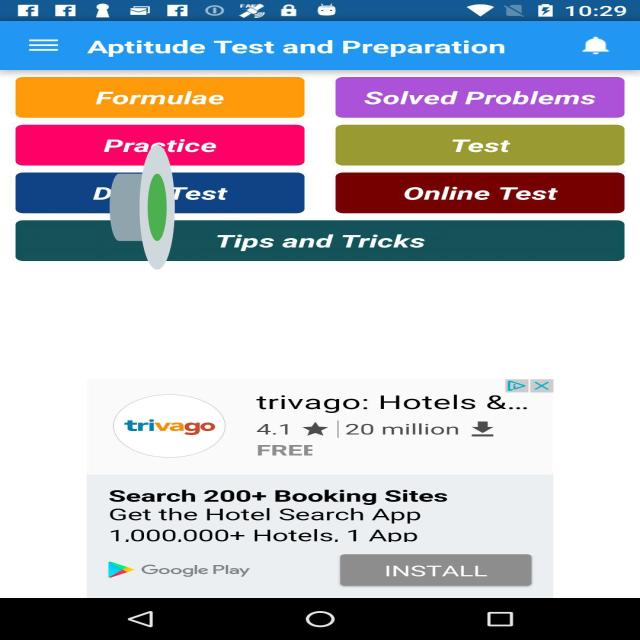social proof: (110, 92, 174, 323)
